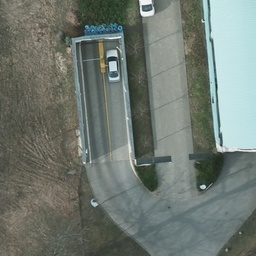car: (105, 51, 122, 82), (137, 1, 155, 18)
